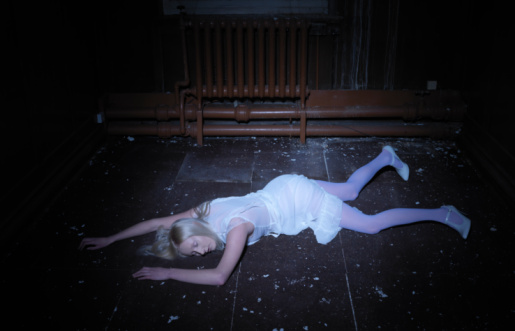deitado: (87, 128, 499, 320)
